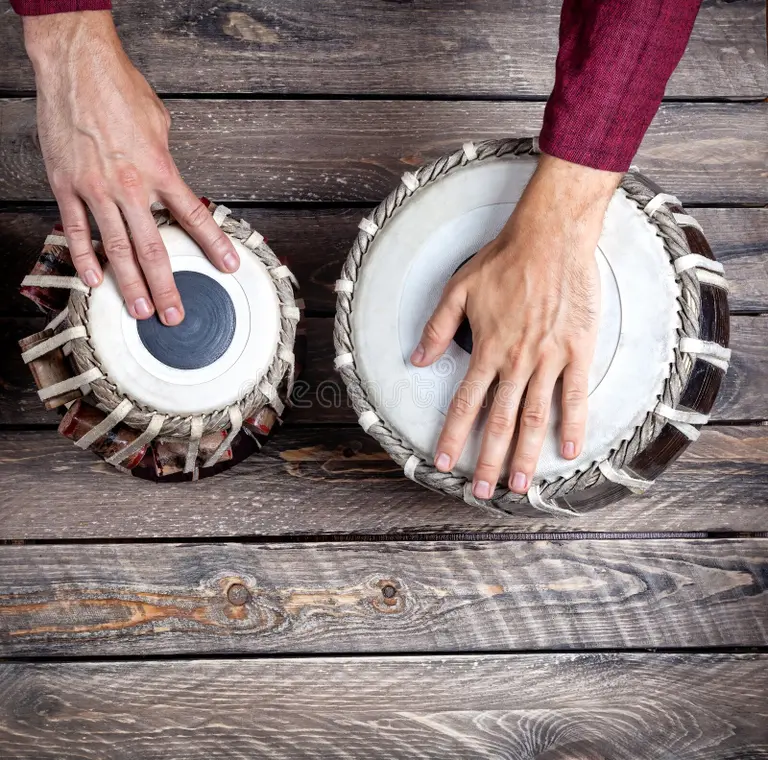tabla: (29, 204, 298, 469), (328, 177, 404, 475)
